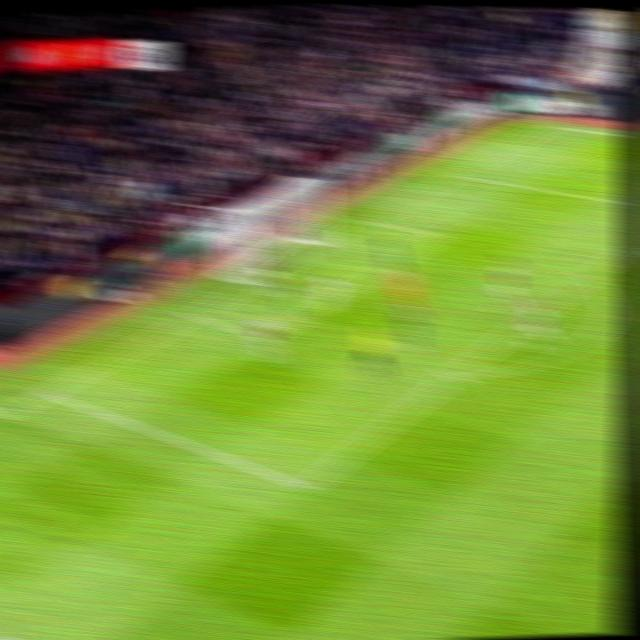bigarea_bottom_inner: (286, 470, 323, 503)
bigarea_bottom_outter: (31, 379, 62, 405)
bigarea_top_outter: (442, 163, 471, 182)
bottom_arc_area_intersection: (437, 359, 471, 388)
corner: (532, 117, 563, 133)
smallarea_bottom_outter: (177, 302, 210, 328)
smallarea_top_inner: (422, 222, 454, 247)
smallarea_top_outter: (355, 208, 385, 232)
top_arc_area_intersection: (574, 266, 603, 287)
